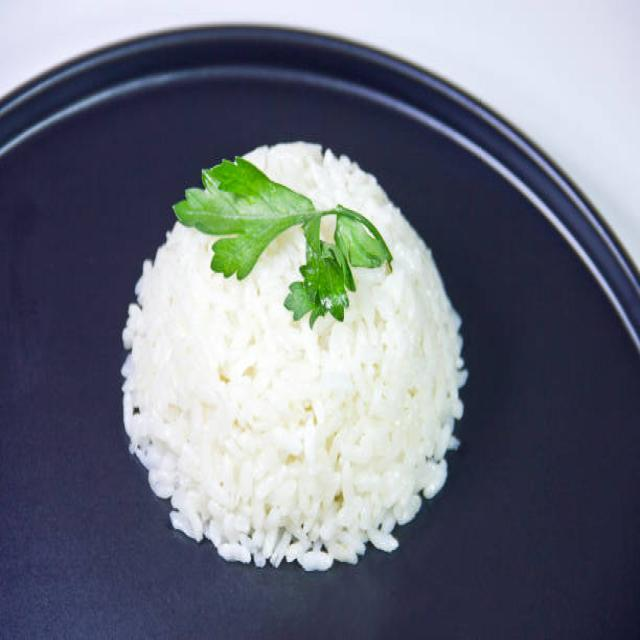Rice: (121, 142, 466, 572)
